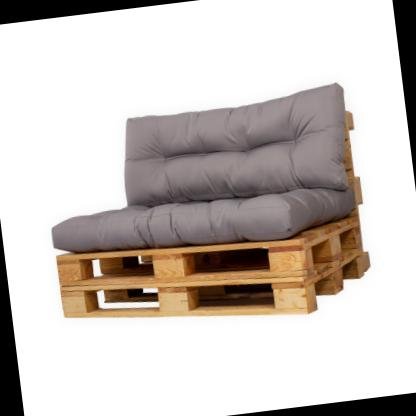BoxFace: (56, 246, 374, 317), (56, 219, 365, 288)
